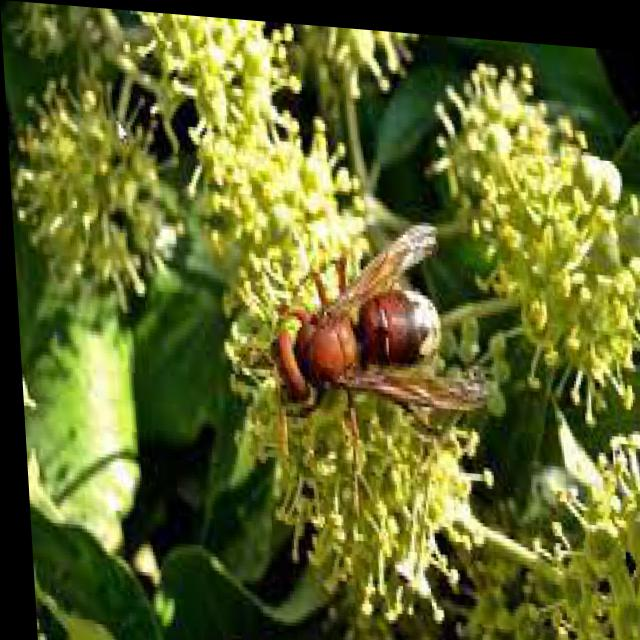Vespa Orientalis: (213, 184, 537, 539)
